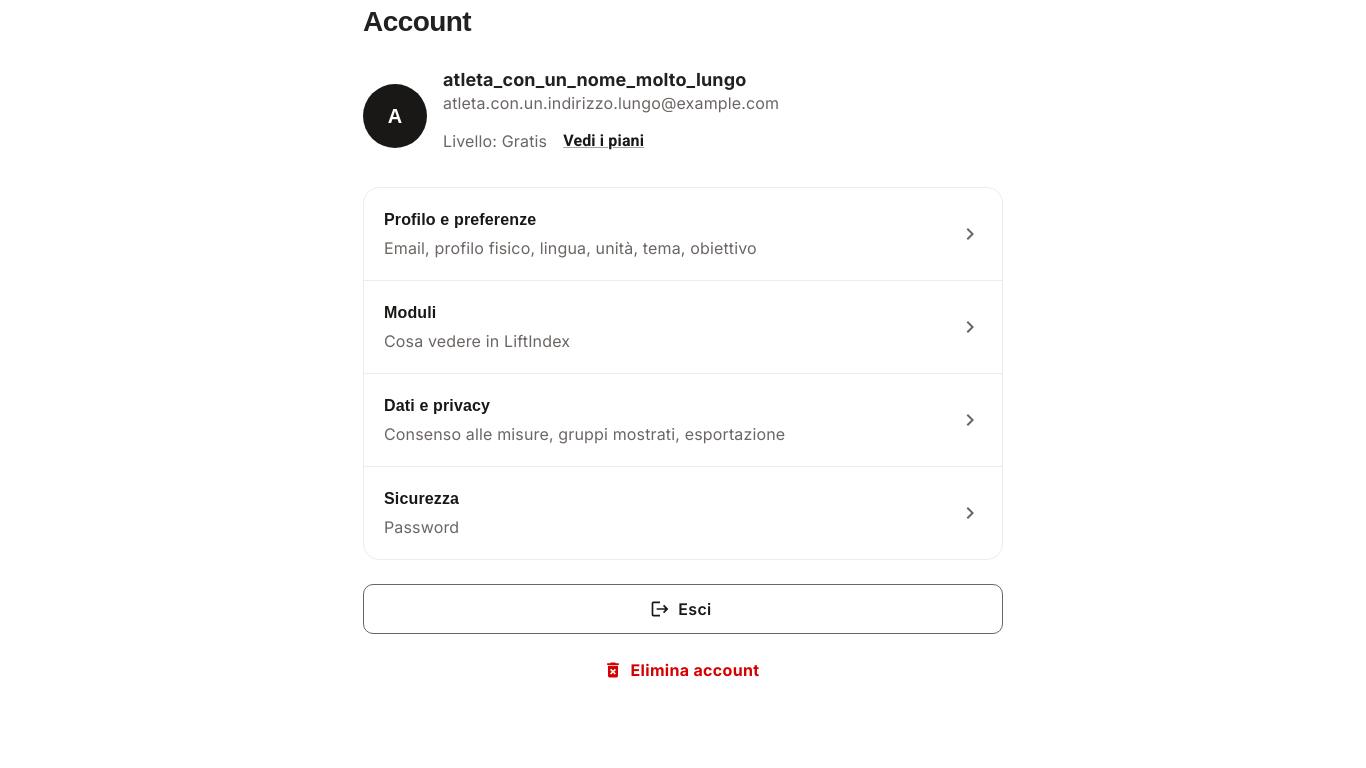
Elimina account › apre la finestra di conferma
The image size is (1366, 768).
Check: the heading "Account" is shown, box x1=363 y1=6 x2=471 y2=37
Click the button "Elimina account". click: (683, 670)
box: x1=588 y1=646 x2=777 y2=694
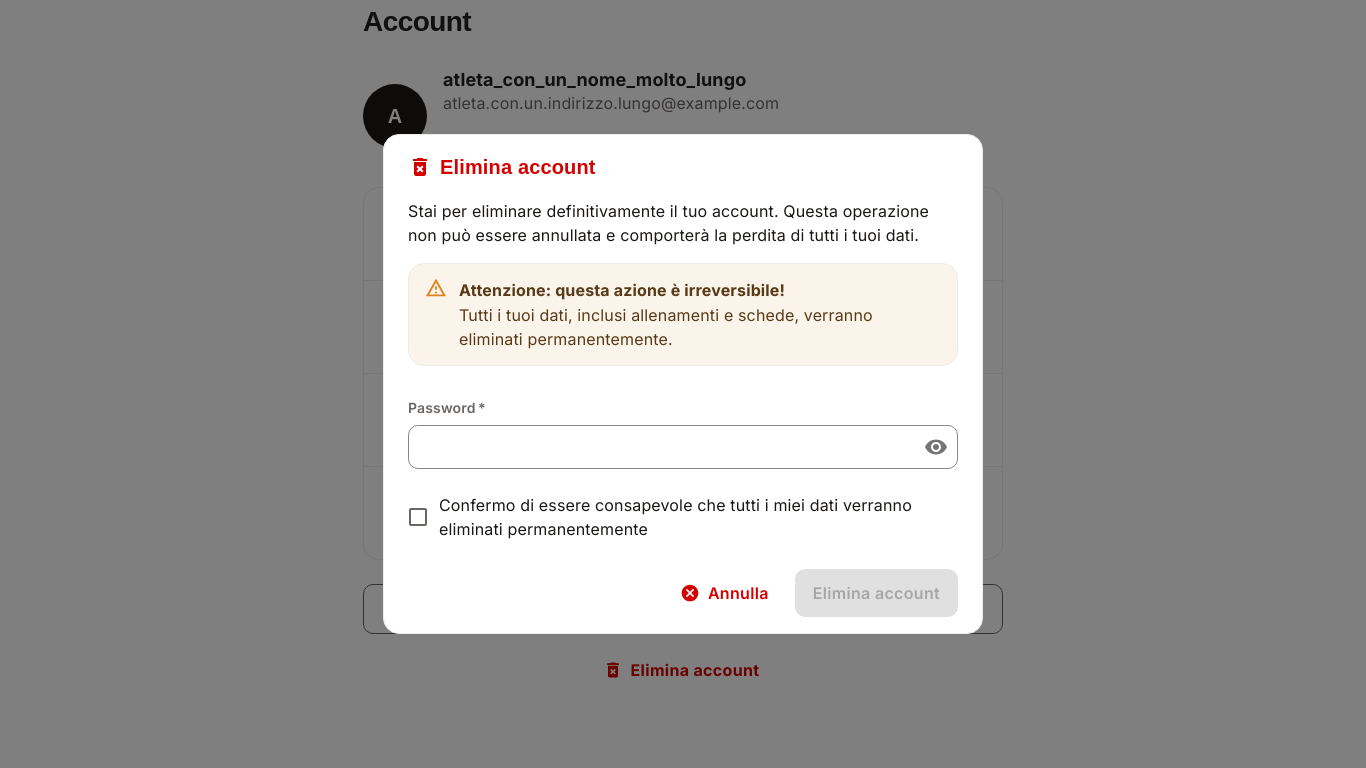
Check: the text "consapevole" is shown, box x1=439 y1=495 x2=912 y2=539
